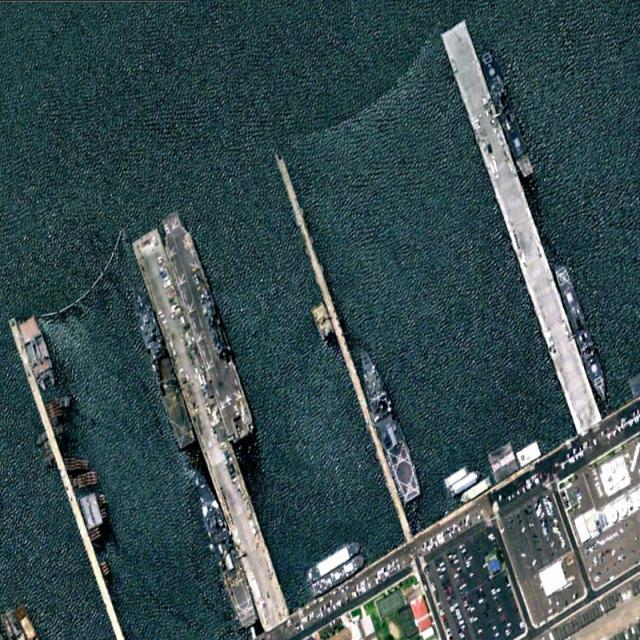Destroyer: (474, 36, 535, 180), (553, 259, 611, 408)
Landing: (154, 203, 257, 444), (125, 273, 197, 451), (188, 466, 260, 633), (353, 339, 425, 503)
Other Ship: (306, 537, 362, 584), (310, 553, 367, 597)
